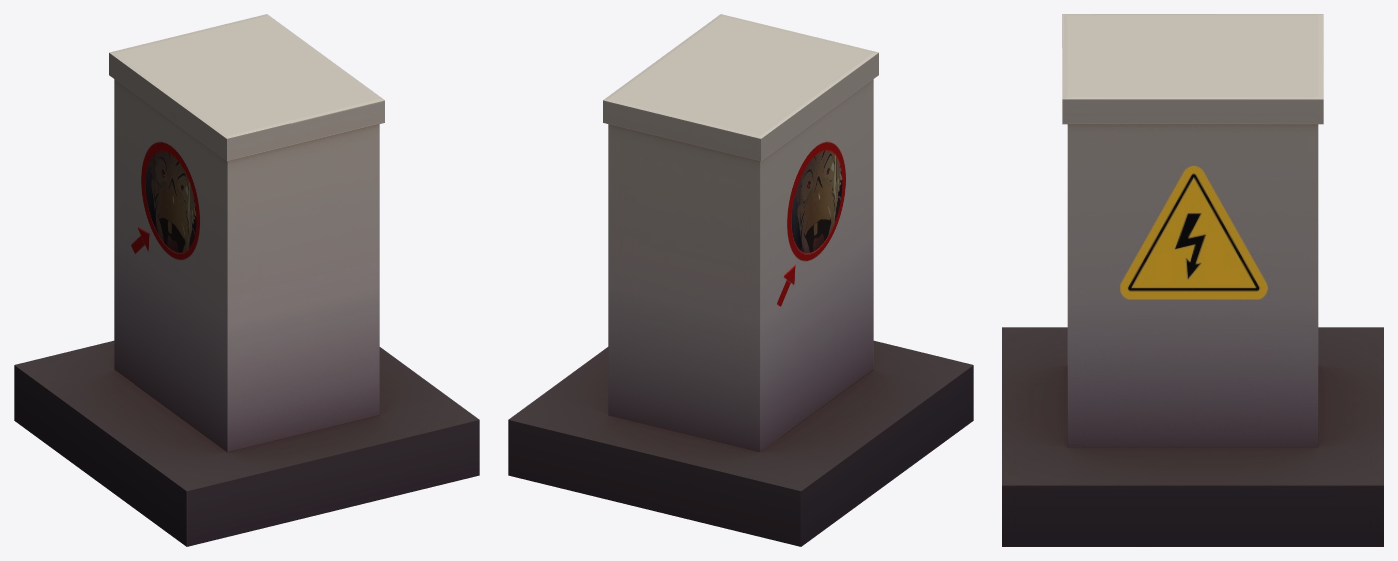
Rendered from caja-electrica.glb.
3 views of the same model, side by side, from view 1: azimuth 30°, elevation 25°; view 2: azimuth 150°, elevation 25°; view 3: azimuth 270°, elevation 25° (orthographic). The views are drawn at different scales.
Visible parts, largest first — view 1: Cube.127, Cube.126; view 2: Cube.127, Cube.126; view 3: Cube.127, Cube.126.
Part boxes in pixels (x1=…): Cube.127: x1=109, y1=14, x2=384, y2=452; Cube.126: x1=14, y1=340, x2=479, y2=546; Cube.127: x1=603, y1=14, x2=878, y2=452; Cube.126: x1=508, y1=340, x2=973, y2=546; Cube.127: x1=1062, y1=14, x2=1323, y2=447; Cube.126: x1=1002, y1=327, x2=1383, y2=546.
Bounding box in the file's own units: 0.8417 × 1.02 × 0.8587.
2 materials, 2 textured.
